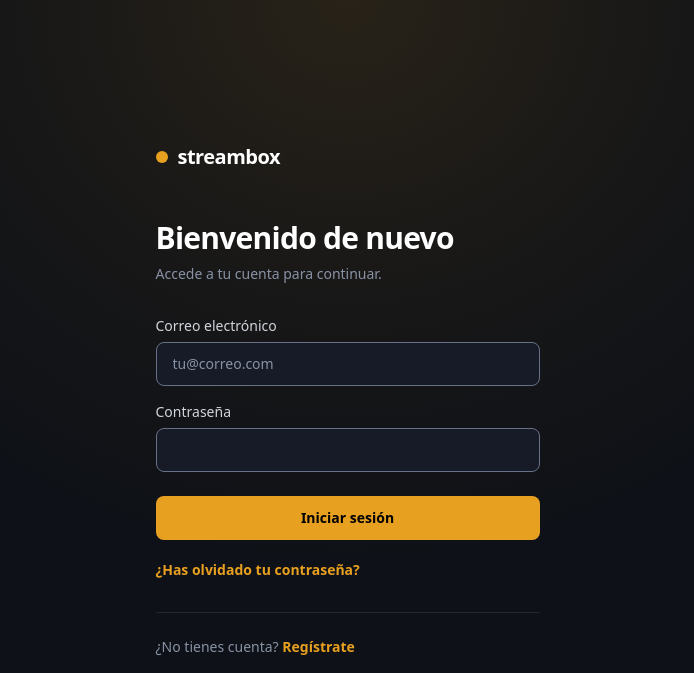
Test: LoginPage › mientras espera la respuesta bloquea el botón (evita enviar dos veces)
In the field labelled "Correo electrónico": {"x": 348, "y": 364} top-left (156, 342), bottom-right (540, 386), type "ana@example.com"
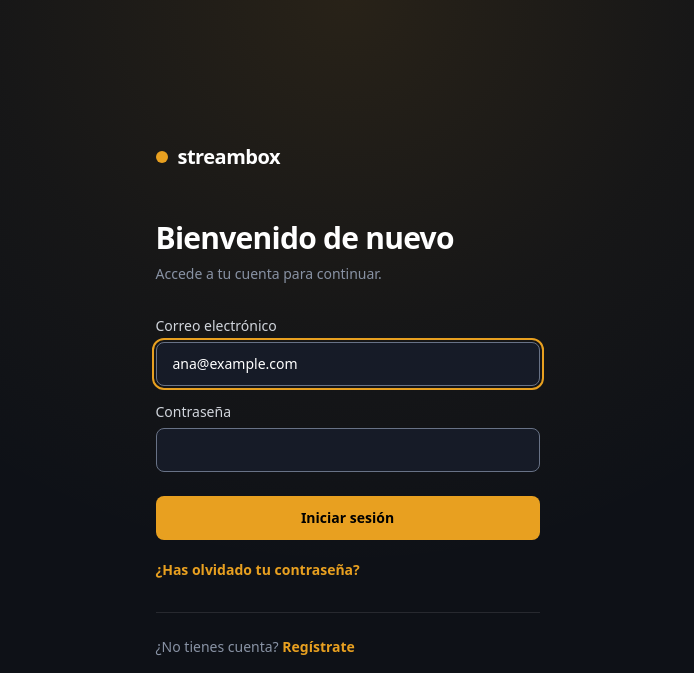
In the password field labelled "Contraseña": {"x": 348, "y": 450} top-left (156, 428), bottom-right (540, 472), type "secreta123"
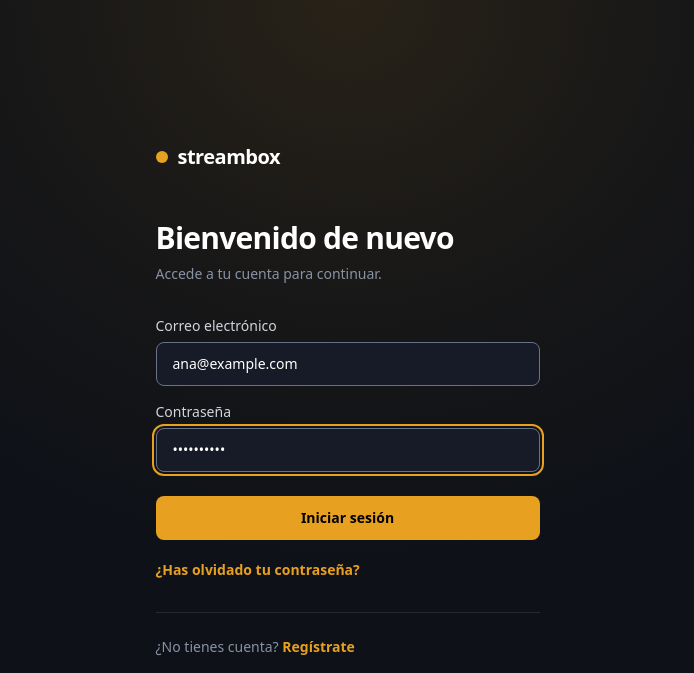
Click the button "Iniciar sesión": {"x": 348, "y": 518} top-left (156, 496), bottom-right (540, 540)
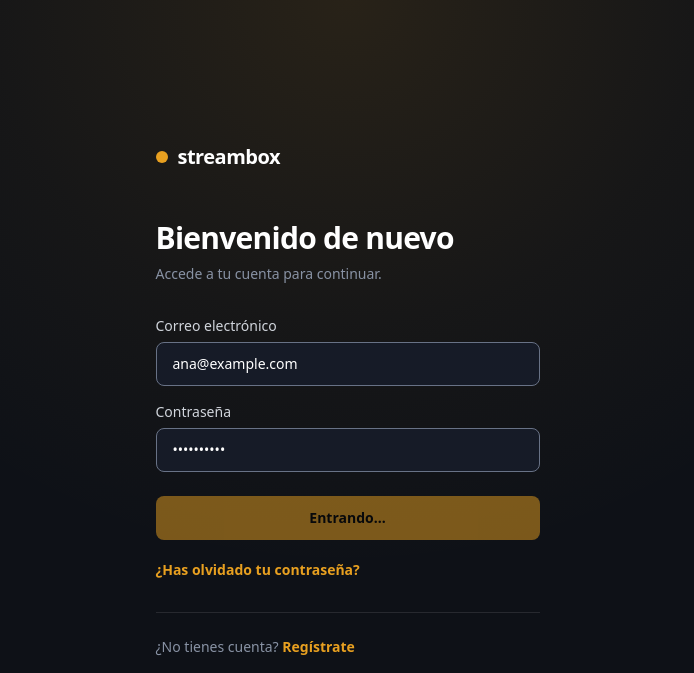
Now the button "Entrando..." is disabled, box top-left (156, 496), bottom-right (540, 540)
